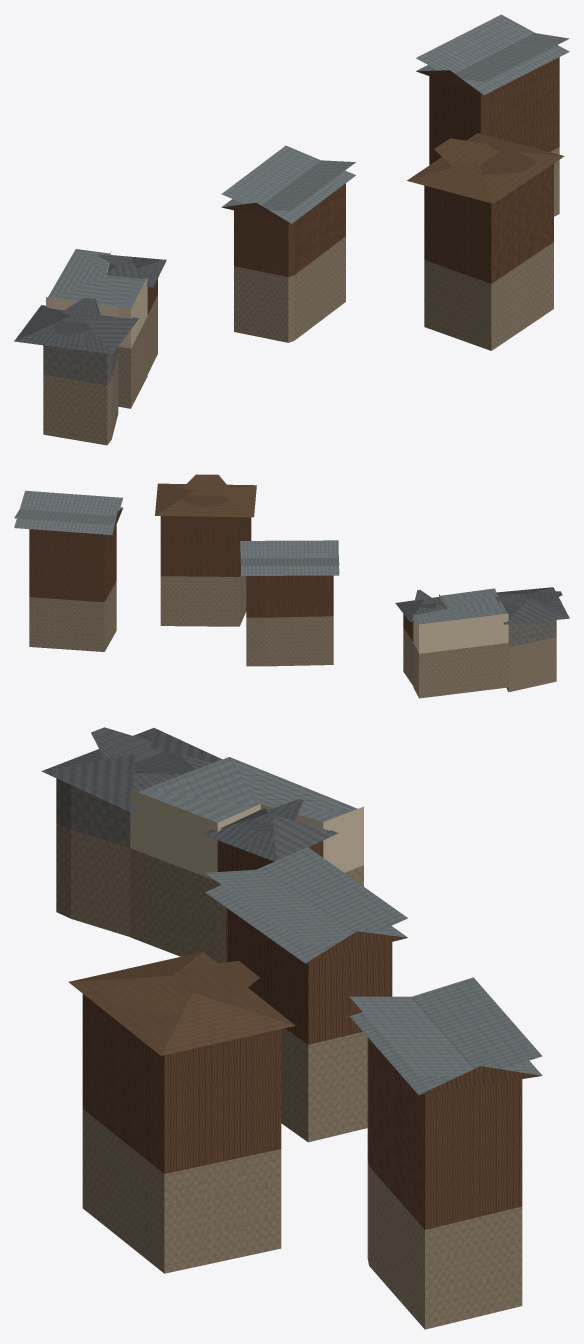
File: bld_c37_-12_537.gltf
3 renders of one model, top to bottom at view 1: azimuth 30°, elevation 25°; view 2: azimuth 150°, elevation 25°; view 3: azimuth 270°, elevation 25°, orthographic. The views are drawn at different scales.
Parts seen in each view (by area): view 1: bld_c37_-12_537; view 2: bld_c37_-12_537; view 3: bld_c37_-12_537.
Part boxes in pixels (left/top/right/bottom): bld_c37_-12_537: left=14, top=14, right=569, bottom=445; bld_c37_-12_537: left=14, top=474, right=569, bottom=698; bld_c37_-12_537: left=41, top=727, right=542, bottom=1329.
Bounding box in the file's own units: 51.31 × 13.9 × 23.27.
9 materials, 9 textured.
